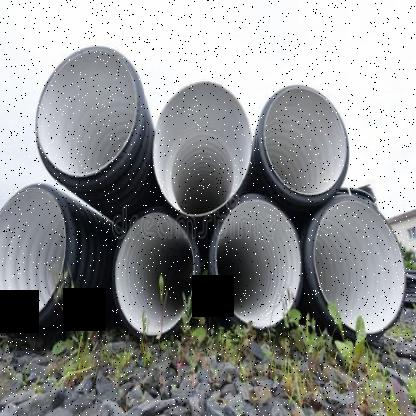pipe: (36, 47, 143, 179), (308, 195, 406, 335), (154, 82, 252, 216), (211, 195, 301, 330), (112, 212, 195, 335), (260, 86, 349, 200), (0, 186, 67, 325)
